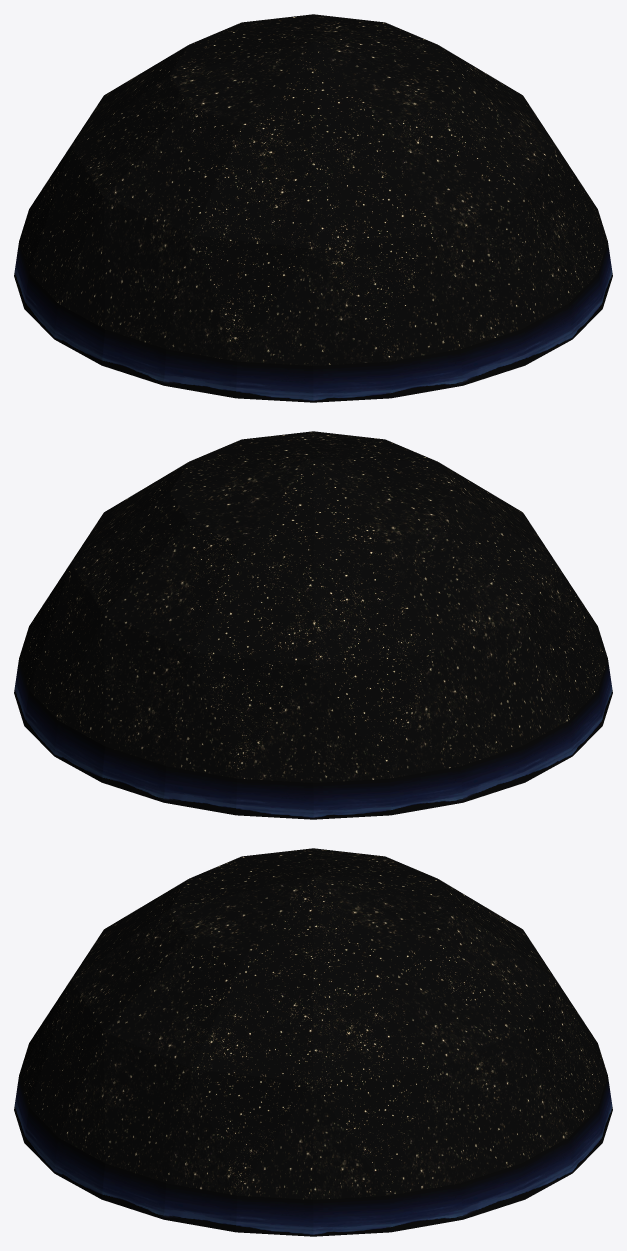
File: Skybox1.obj
3 renders of one model, top to bottom at view 1: azimuth 30°, elevation 25°; view 2: azimuth 150°, elevation 25°; view 3: azimuth 270°, elevation 25°, orthographic.
Visible parts, largest first — view 1: Object_2; view 2: Object_2; view 3: Object_2.
Boxes of the visible parts, x1,y1,x2,y2 form: Object_2: (14, 14, 612, 402); Object_2: (14, 431, 612, 819); Object_2: (14, 848, 612, 1236).
Size of the model in its own units: 150000 by 64660 by 150000.
